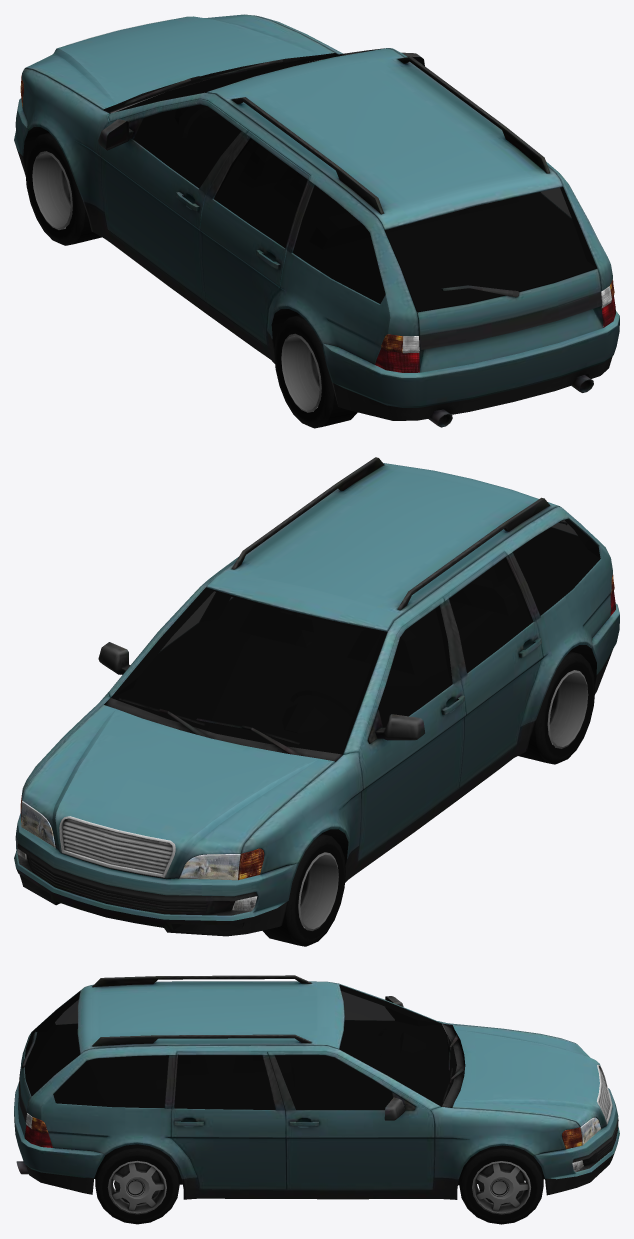
File: wagon.glb
The picture shows the model from 3 angles, top to bottom: view 1: azimuth 30°, elevation 25°; view 2: azimuth 150°, elevation 25°; view 3: azimuth 270°, elevation 25°; orthographic projection. The views are drawn at different scales.
Parts seen in each view (by area): view 1: Wagon_Body, wheel_1, wheel_3; view 2: Wagon_Body, wheel_3, wheel_1; view 3: Wagon_Body, wheel_0, wheel_2.
Boxes of the visible parts, x1,y1,x2,y2 form: Wagon_Body: (14,14,619,427); wheel_1: (274,315,357,428); wheel_3: (25,132,101,245); Wagon_Body: (14,457,619,936); wheel_3: (262,833,345,946); wheel_1: (518,651,595,764); Wagon_Body: (14,975,619,1199); wheel_0: (95,1144,179,1224); wheel_2: (459,1145,543,1224).
Size of the model in its own units: 2.19 by 1.55 by 4.93.
4 materials, 3 textured.
